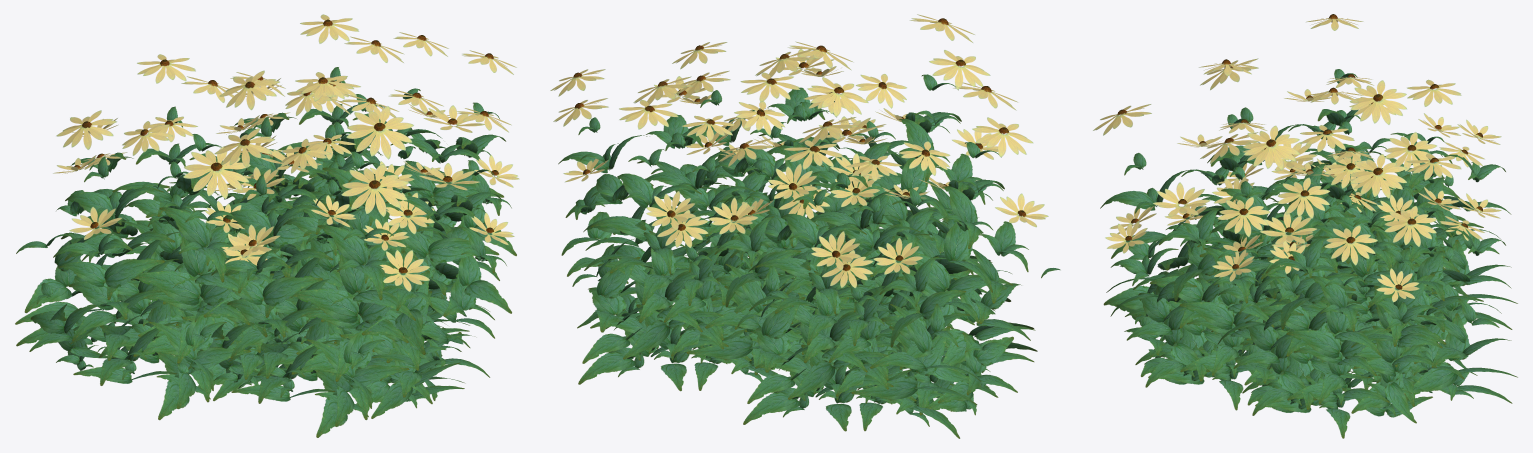
3 renders of one model, left to right at view 1: azimuth 30°, elevation 25°; view 2: azimuth 150°, elevation 25°; view 3: azimuth 270°, elevation 25°, orthographic. The views are drawn at different scales.
Parts seen in each view (by area): view 1: G-Object.089, G-Object.546, G-Object.369, G-Object.070, G-Object.826, G-Object.804, G-Object.527, G-Object.518, G-Object.361, G-Object.818, G-Object.836, G-Object.1261 (+32 smaller); view 2: G-Object.1220, G-Object.306, G-Object.180, G-Object.1152, G-Object.238, G-Object.1147, G-Object.233, G-Object.1150, G-Object.236, G-Object.166, G-Object.185, G-Object.1196 (+19 smaller); view 3: G-Object.594, G-Object.1051, G-Object.1139, G-Object.799, G-Object.1184, G-Object.1256, G-Object.727, G-Object.1032, G-Object.1303, G-Object.840, G-Object.1212, G-Object.528 (+18 smaller).
Boxes of the visible parts, box(x1,y1,x2,y2) form: G-Object.089: box(133, 270, 200, 305); G-Object.546: box(292, 288, 359, 323); G-Object.369: box(104, 258, 164, 288); G-Object.070: box(159, 207, 211, 247); G-Object.826: box(262, 276, 323, 306); G-Object.804: box(428, 237, 499, 263); G-Object.527: box(317, 225, 369, 265); G-Object.518: box(395, 309, 425, 354); G-Object.361: box(69, 281, 118, 310); G-Object.818: box(227, 299, 276, 327); G-Object.836: box(349, 365, 409, 388); G-Object.1261: box(433, 180, 503, 205); G-Object.1220: box(686, 335, 752, 359); G-Object.306: box(851, 376, 917, 399); G-Object.180: box(943, 220, 972, 261); G-Object.1152: box(623, 319, 670, 359); G-Object.238: box(788, 360, 835, 399); G-Object.1147: box(578, 352, 635, 384); G-Object.233: box(743, 392, 800, 424); G-Object.1150: box(596, 257, 640, 298); G-Object.236: box(761, 297, 804, 338); G-Object.166: box(942, 186, 977, 231); G-Object.185: box(895, 250, 950, 292); G-Object.1196: box(591, 217, 652, 241); G-Object.594: box(1179, 301, 1234, 330); G-Object.1051: box(1286, 330, 1341, 358); G-Object.1139: box(1404, 362, 1457, 395); G-Object.799: box(1149, 275, 1203, 302); G-Object.1184: box(1245, 321, 1278, 350); G-Object.1256: box(1261, 304, 1310, 330); G-Object.727: box(1138, 292, 1171, 322); G-Object.1032: box(1311, 276, 1348, 307); G-Object.1303: box(1384, 382, 1416, 423); G-Object.840: box(1103, 285, 1154, 309); G-Object.1212: box(1417, 251, 1444, 282); G-Object.528: box(1100, 191, 1155, 210).
Bounding box in the file's own units: 1.32 × 0.7417 × 1.12.
Materials: 3 (3 with a texture image).
